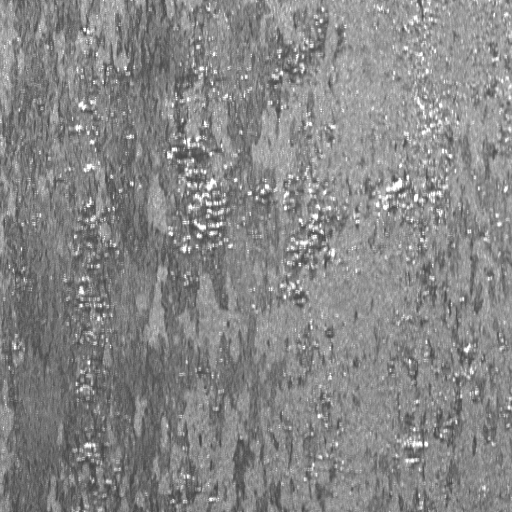aokeng: (72, 204, 120, 480), (167, 127, 230, 253), (282, 169, 339, 308)
